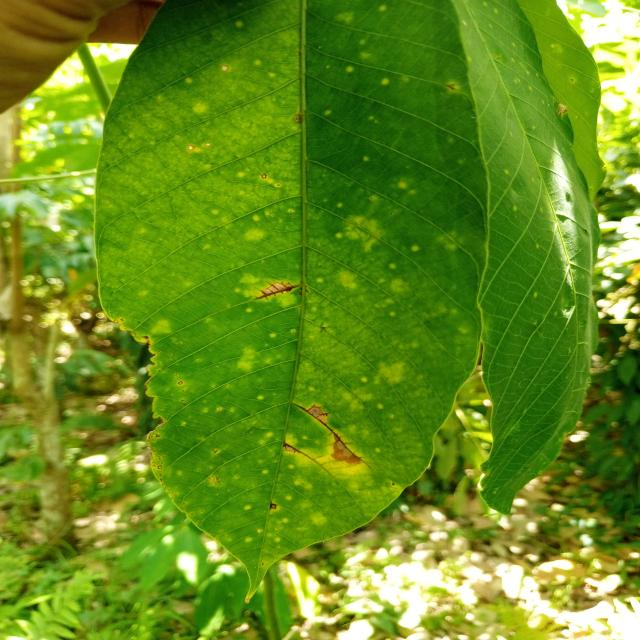Colletotrichum: (222, 66, 228, 72), (188, 145, 194, 150), (178, 381, 183, 385), (262, 174, 266, 178), (158, 465, 162, 469), (206, 143, 210, 146), (120, 319, 124, 321), (277, 184, 280, 186)
Corynespora: (293, 404, 361, 459), (252, 280, 296, 301), (283, 444, 307, 456), (320, 411, 330, 417)
Leaf-Blight: (332, 434, 361, 464), (308, 406, 326, 424)
